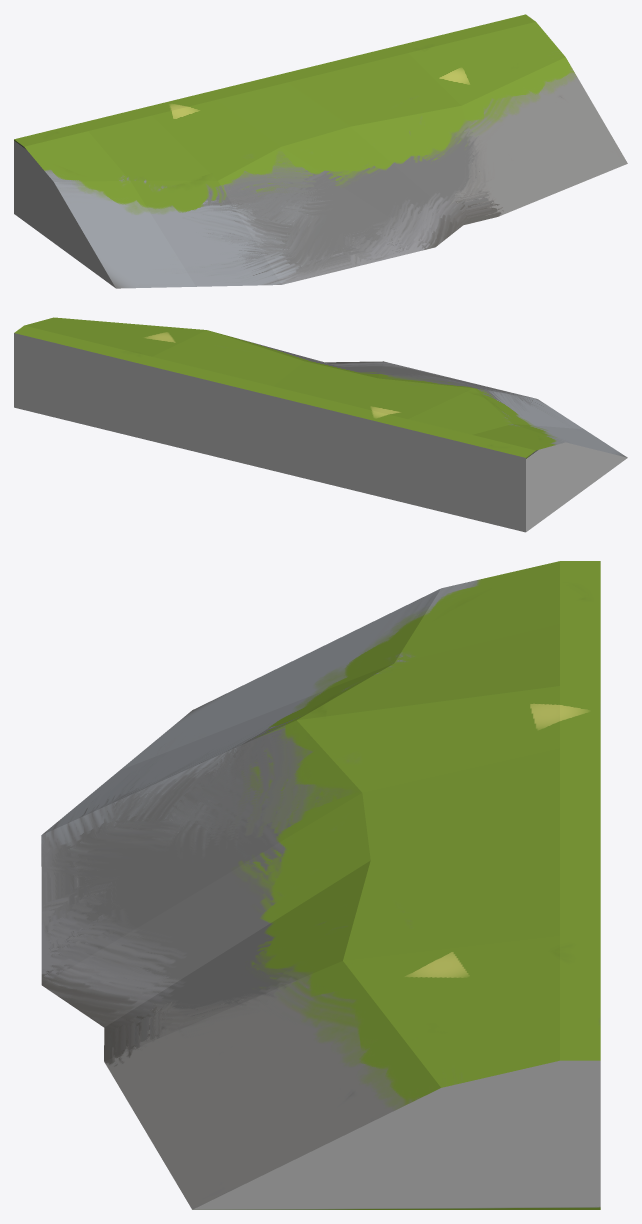
The model's file is mountainTop.fbx.
The picture shows the model from 3 angles, top to bottom: view 1: azimuth 30°, elevation 25°; view 2: azimuth 150°, elevation 25°; view 3: azimuth 270°, elevation 25°; orthographic projection. The views are drawn at different scales.
Parts seen in each view (by area): view 1: MountainTop; view 2: MountainTop; view 3: MountainTop.
Part boxes in pixels (x1,y1,x2,y2): MountainTop: (14, 14, 627, 288); MountainTop: (14, 317, 627, 532); MountainTop: (41, 561, 600, 1209).
Bounding box in the file's own units: 200 × 27.84 × 94.58.
Materials: 1 (1 with a texture image).
